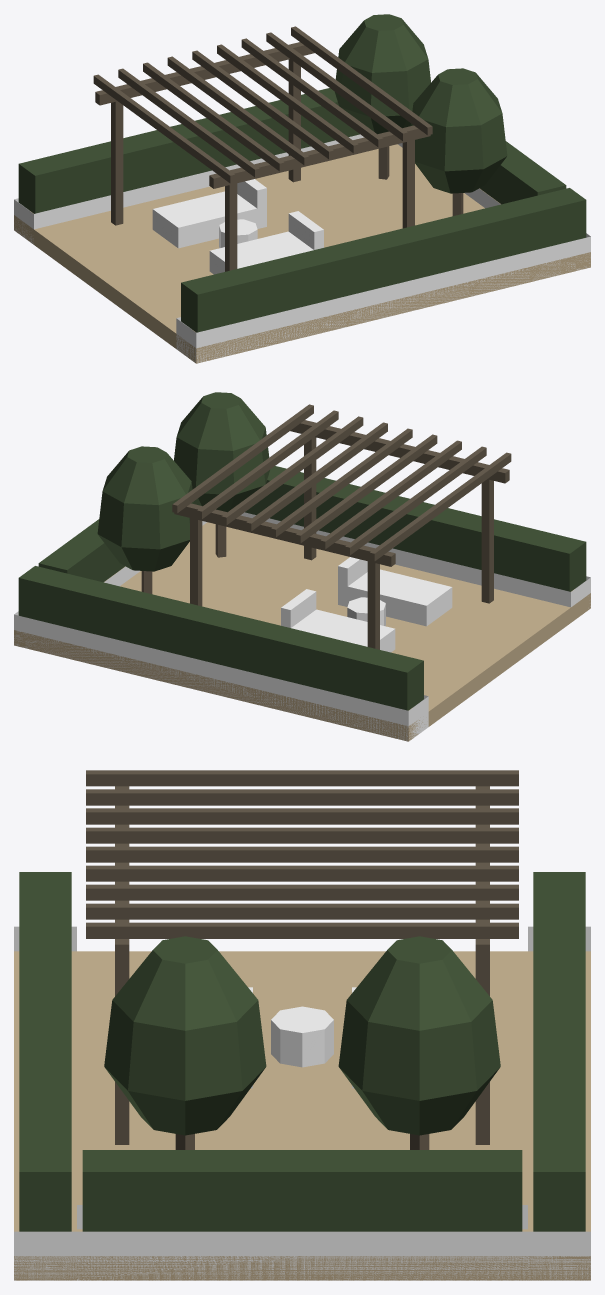
The model's file is roofprop_close.fbx.
3 renders of one model, top to bottom at view 1: azimuth 30°, elevation 25°; view 2: azimuth 150°, elevation 25°; view 3: azimuth 270°, elevation 25°, orthographic. The views are drawn at different scales.
Parts seen in each view (by area): view 1: a2019/500/roofprop_close; view 2: a2019/500/roofprop_close; view 3: a2019/500/roofprop_close.
Boxes of the visible parts, x1=… form: a2019/500/roofprop_close: x1=14, y1=14, x2=590, y2=363; a2019/500/roofprop_close: x1=14, y1=392, x2=590, y2=741; a2019/500/roofprop_close: x1=14, y1=770, x2=590, y2=1280.
Size of the model in its own units: 8 by 3.3 by 6.4.
